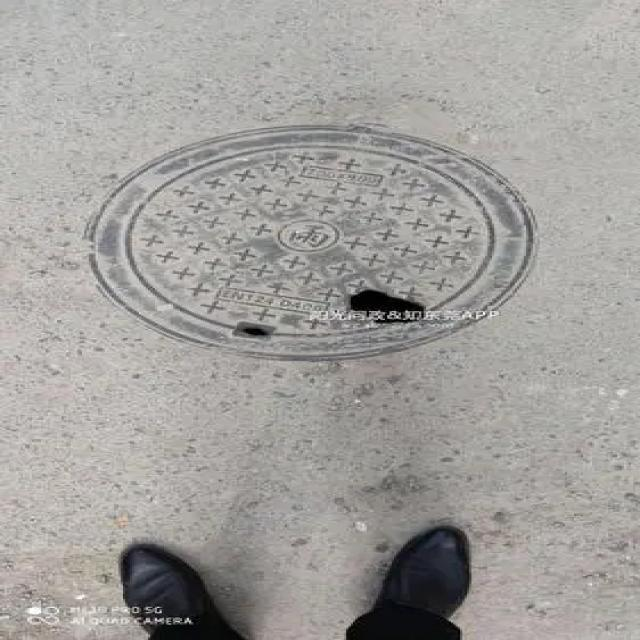manhole: (89, 126, 534, 359)
